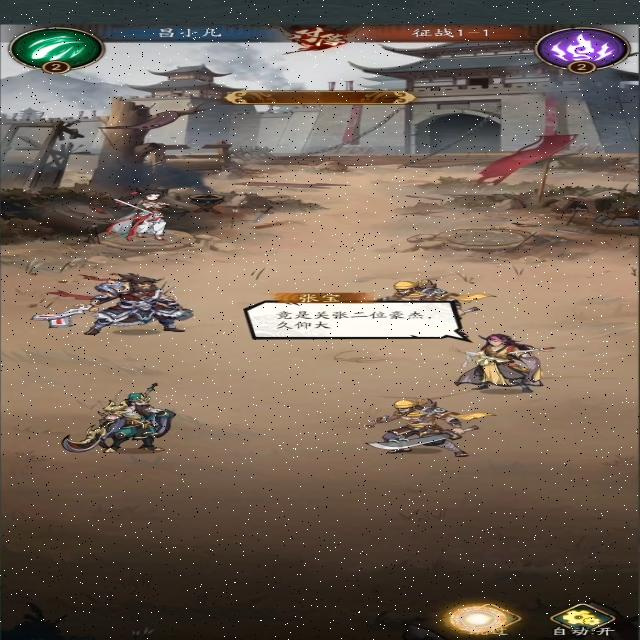system-auto: (546, 601, 623, 638)
